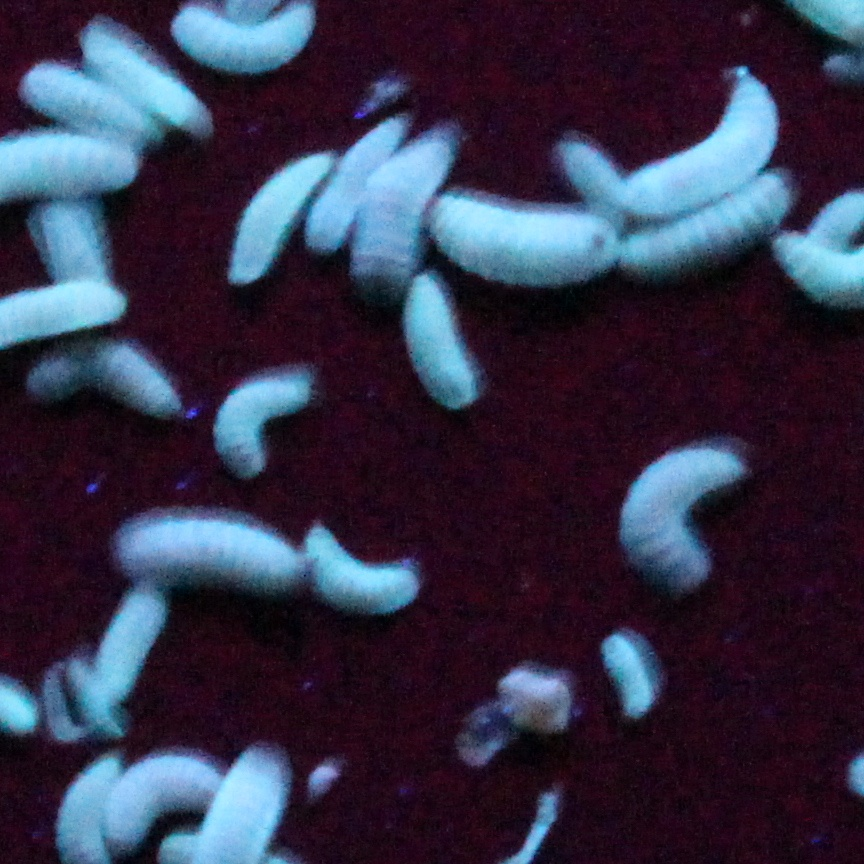larve: (622, 77, 778, 215), (620, 449, 742, 589), (429, 195, 618, 285), (619, 172, 790, 268), (233, 154, 333, 282), (354, 143, 452, 273), (307, 118, 402, 248), (80, 29, 202, 130), (21, 64, 161, 146), (118, 521, 303, 582), (29, 342, 179, 414), (106, 754, 223, 841), (173, 4, 314, 72), (404, 275, 477, 406), (307, 527, 417, 612), (213, 380, 310, 475), (95, 589, 166, 705), (562, 144, 624, 233), (38, 204, 105, 284), (603, 635, 655, 716)
